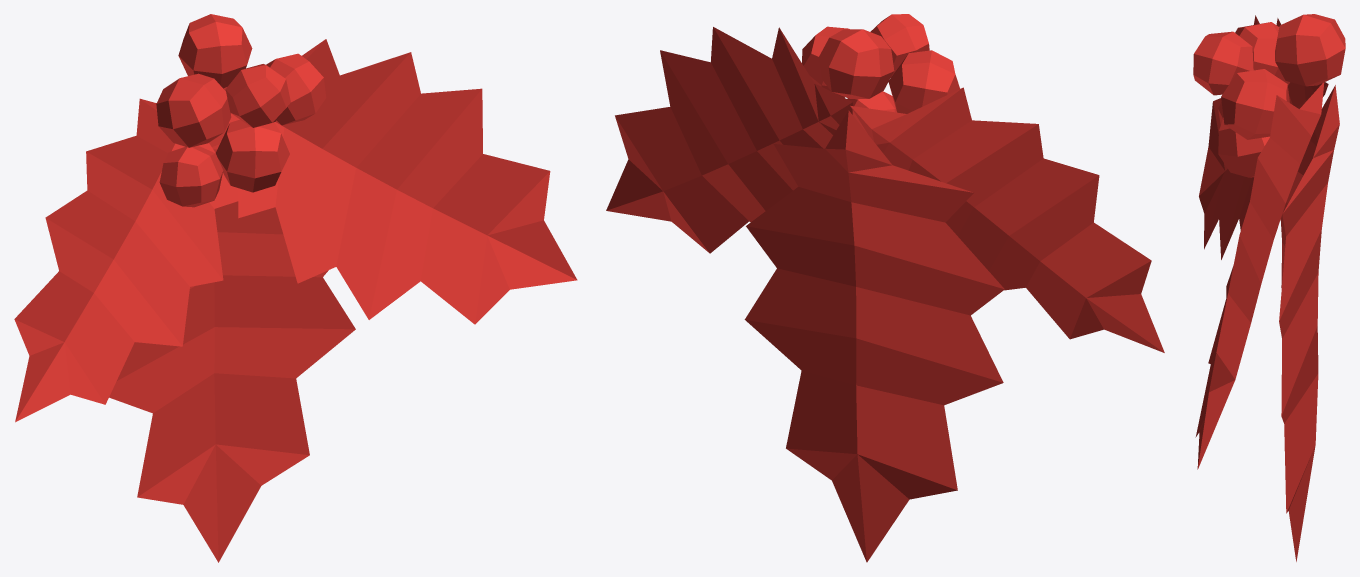
File: SM_Holly_Plant.fbx
3 views of the same model, side by side, from view 1: azimuth 30°, elevation 25°; view 2: azimuth 150°, elevation 25°; view 3: azimuth 270°, elevation 25° (orthographic). The views are drawn at different scales.
Parts seen in each view (by area): view 1: holly-plant; view 2: holly-plant; view 3: holly-plant.
Part boxes in pixels (left/top/right/bottom): holly-plant: left=14, top=14, right=577, bottom=562; holly-plant: left=606, top=14, right=1164, bottom=562; holly-plant: left=1193, top=14, right=1345, bottom=561.
Bounding box in the file's own units: 0.1704 × 0.156 × 0.0393.
